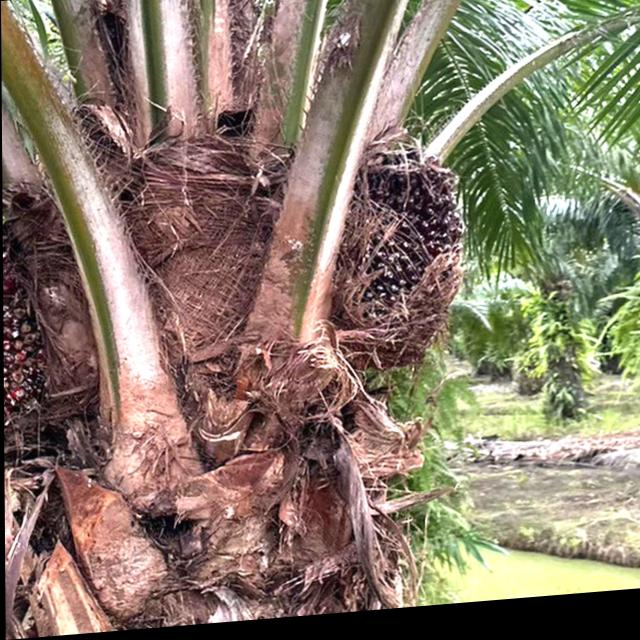ripe: (324, 144, 471, 374)
